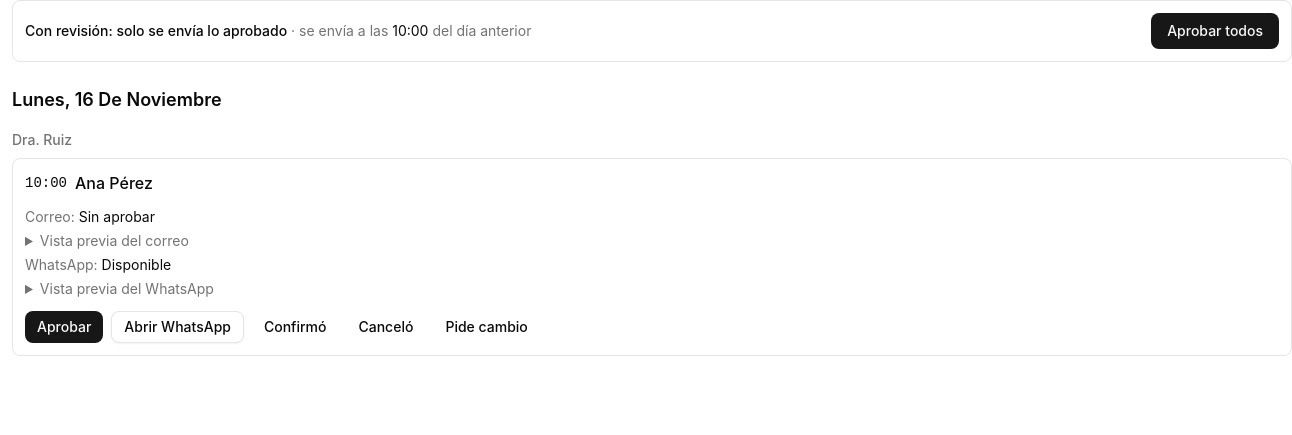
Test: Abrir WhatsApp › si la acción lanza, también cierra la pestaña vacía
The image size is (1292, 435).
Click the button "Abrir WhatsApp".
click(178, 327)  # box [111,311,244,343]
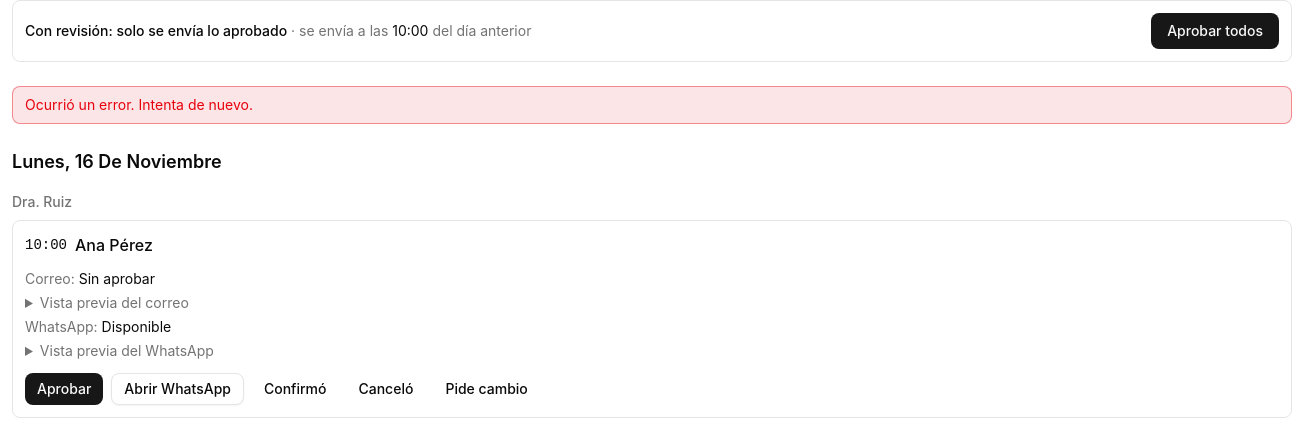
Now the message "Ocurrió un error. Intenta de nuevo." is shown, box [12,86,1291,124]
